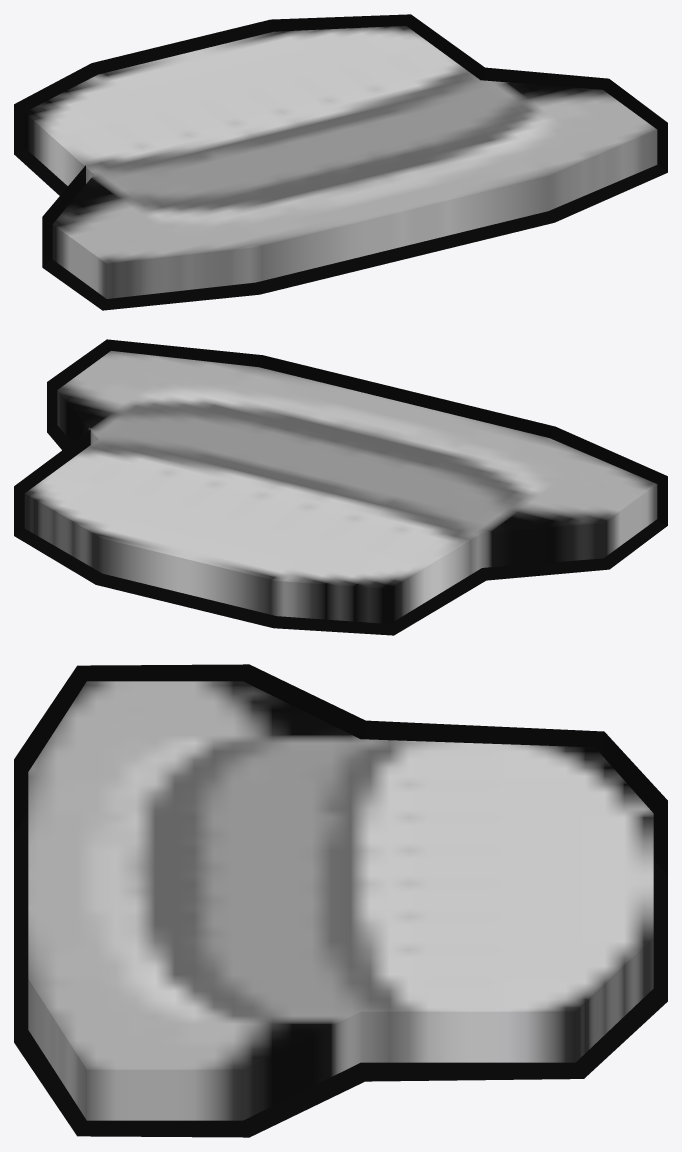
The model's file is Item_Apparel_BowlerHat_Things_Pawn_Humanlike_Apparel_BowlerHat_BowlerHat.glb.
The picture shows the model from 3 angles, top to bottom: view 1: azimuth 30°, elevation 25°; view 2: azimuth 150°, elevation 25°; view 3: azimuth 270°, elevation 25°; orthographic projection. The views are drawn at different scales.
Parts seen in each view (by area): view 1: Body, Outline; view 2: Body, Outline; view 3: Body, Outline.
Boxes of the visible parts, x1,y1,x2,y2 form: Body: (24, 26, 657, 298); Outline: (14, 14, 667, 310); Body: (24, 351, 657, 623); Outline: (14, 339, 667, 635); Body: (28, 681, 653, 1120); Outline: (14, 664, 667, 1137).
Size of the model in its own units: 0.3783 by 0.0352 by 0.2614.
2 materials, 1 textured.
